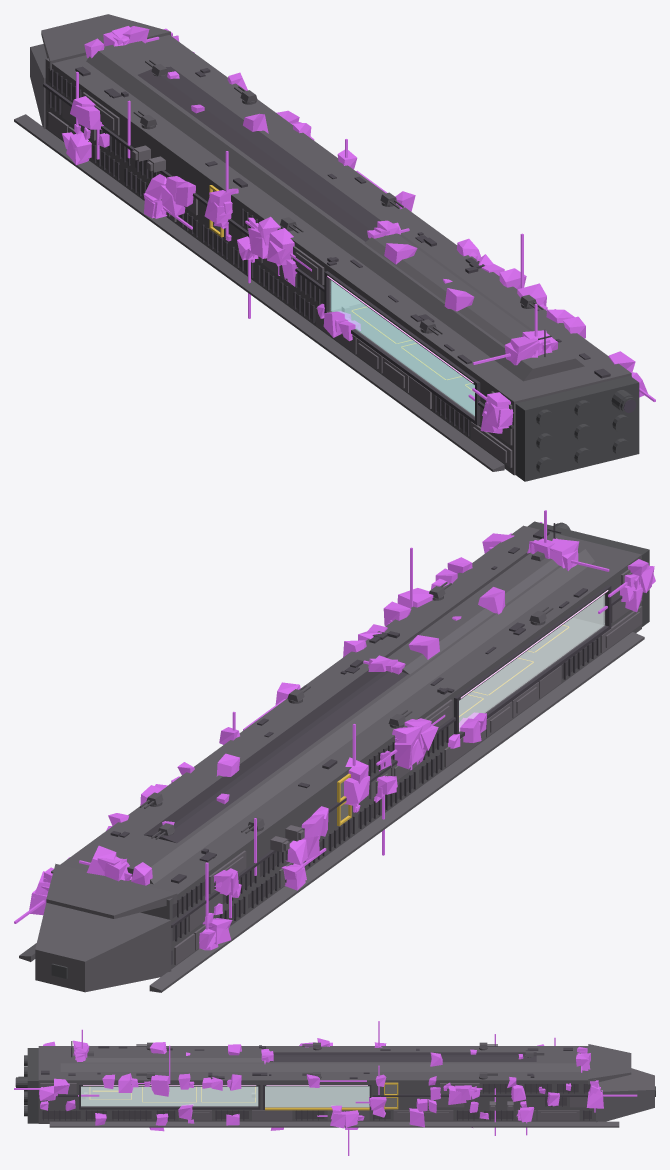
Rendered from ship_LARGE.glb.
The picture shows the model from 3 angles, top to bottom: view 1: azimuth 30°, elevation 25°; view 2: azimuth 150°, elevation 25°; view 3: azimuth 270°, elevation 25°; orthographic projection. The views are drawn at different scales.
Parts seen in each view (by area): view 1: LARGE_Hull-col, LARGE_Growth, LARGE_Trim, LARGE_Engines, LARGE_Armor, LARGE_HangarShield_Port, LARGE_Decks-col, LARGE_Accent, LARGE_Details; view 2: LARGE_Hull-col, LARGE_Growth, LARGE_Trim, LARGE_Armor, LARGE_HangarShield_Port, LARGE_Decks-col, LARGE_Accent, LARGE_Details, LARGE_Engines; view 3: LARGE_Hull-col, LARGE_Growth, LARGE_Trim, LARGE_HangarShield_Starboard, LARGE_Decks-col, LARGE_Armor, LARGE_Accent, LARGE_CargoBayShield, LARGE_CargoBayDoor-col, LARGE_Engines, LARGE_Hazard, LARGE_Details.
Boxes of the visible parts, x1=… form: LARGE_Hull-col: x1=14, y1=14, x2=631, y2=475; LARGE_Growth: x1=62, y1=26, x2=655, y2=433; LARGE_Trim: x1=43, y1=66, x2=513, y2=436; LARGE_Engines: x1=515, y1=376, x2=639, y2=481; LARGE_Armor: x1=48, y1=92, x2=631, y2=467; LARGE_HangarShield_Port: x1=331, y1=280, x2=474, y2=415; LARGE_Decks-col: x1=332, y1=303, x2=474, y2=414; LARGE_Accent: x1=47, y1=68, x2=469, y2=434; LARGE_Details: x1=75, y1=66, x2=610, y2=378; LARGE_Hull-col: x1=19, y1=525, x2=644, y2=992; LARGE_Growth: x1=14, y1=510, x2=655, y2=950; LARGE_Trim: x1=144, y1=585, x2=622, y2=941; LARGE_Armor: x1=174, y1=569, x2=642, y2=964; LARGE_HangarShield_Port: x1=459, y1=594, x2=604, y2=731; LARGE_Decks-col: x1=459, y1=618, x2=602, y2=722; LARGE_Accent: x1=171, y1=640, x2=596, y2=964; LARGE_Details: x1=110, y1=523, x2=587, y2=883; LARGE_Engines: x1=51, y1=521, x2=649, y2=978; LARGE_Hull-col: x1=38, y1=1044, x2=654, y2=1127; LARGE_Growth: x1=14, y1=1021, x2=637, y2=1155; LARGE_Trim: x1=38, y1=1052, x2=590, y2=1120; LARGE_HangarShield_Starboard: x1=81, y1=1086, x2=258, y2=1106; LARGE_Decks-col: x1=81, y1=1086, x2=258, y2=1105; LARGE_Armor: x1=40, y1=1083, x2=587, y2=1120; LARGE_Accent: x1=42, y1=1084, x2=591, y2=1118; LARGE_CargoBayShield: x1=265, y1=1086, x2=369, y2=1107; LARGE_CargoBayDoor-col: x1=265, y1=1086, x2=369, y2=1106; LARGE_Engines: x1=16, y1=1048, x2=655, y2=1123; LARGE_Hazard: x1=89, y1=1082, x2=398, y2=1110; LARGE_Details: x1=41, y1=1041, x2=572, y2=1079.
Bounding box in the file's own units: 28.85 × 32.65 × 174.
